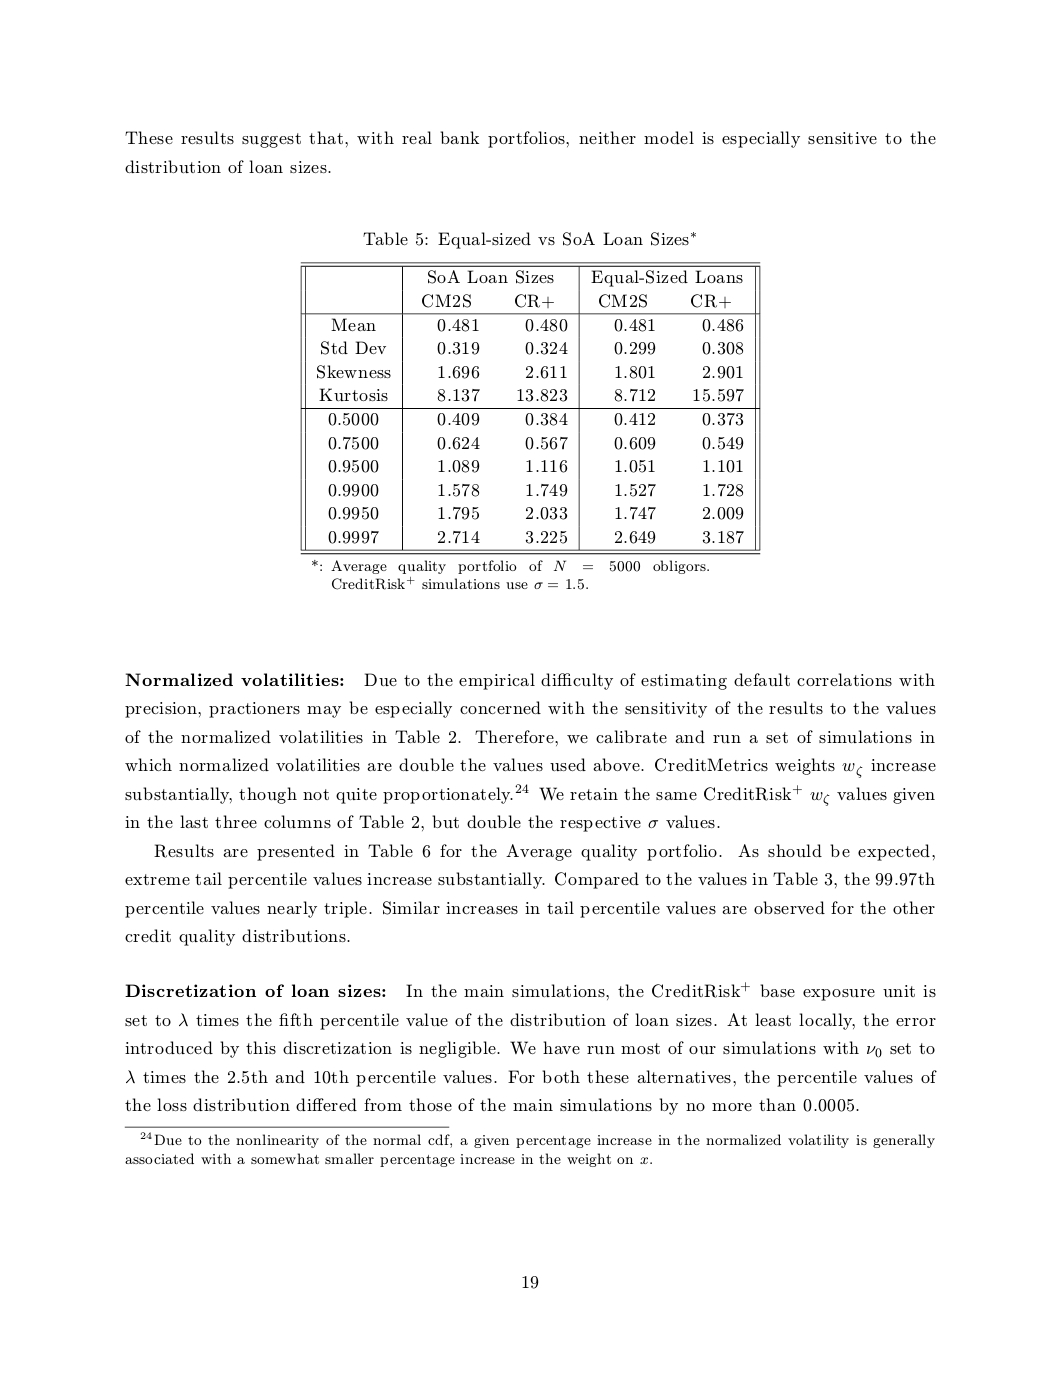Table: (300, 261, 760, 555)
